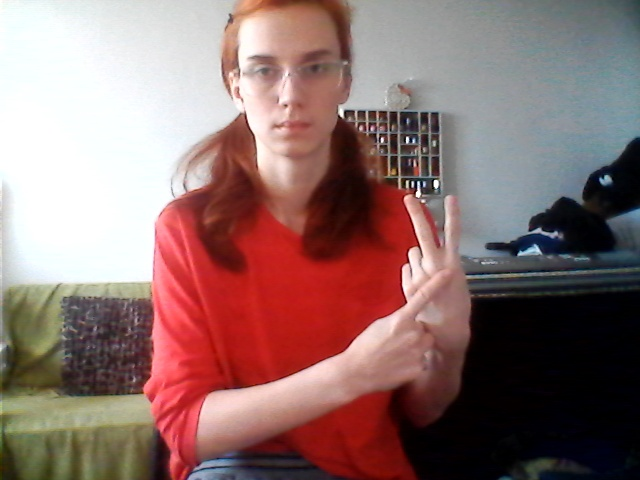y: (364, 191, 491, 391)
